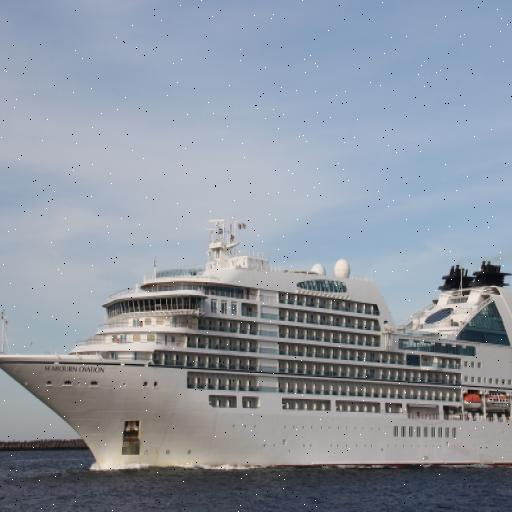cruises: (1, 215, 512, 474)
